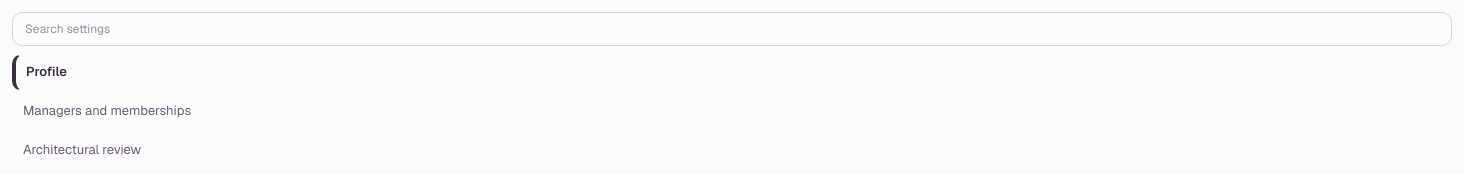
Test case: SettingsSideNavComponent (030 T067) › filters to matching sections and setting labels, and announces the count (8.04.b)
The width and height of the screenshot is (1464, 174).
In the search field labelled "Search settings": (732, 29) 12,12 -> 1452,46, type "review"
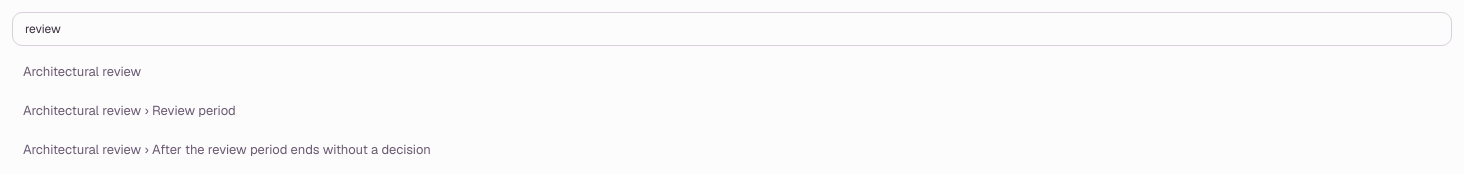
Check: the links read "Architectural review", "Architectural review › Review period", "Architectural review › After the review period ends without a decision", in this order, box 23,63 -> 141,80; 23,102 -> 236,119; 23,141 -> 431,158
Replace the text in the search field named "Search settings" with "FORMAT": (732, 29) 12,12 -> 1452,46
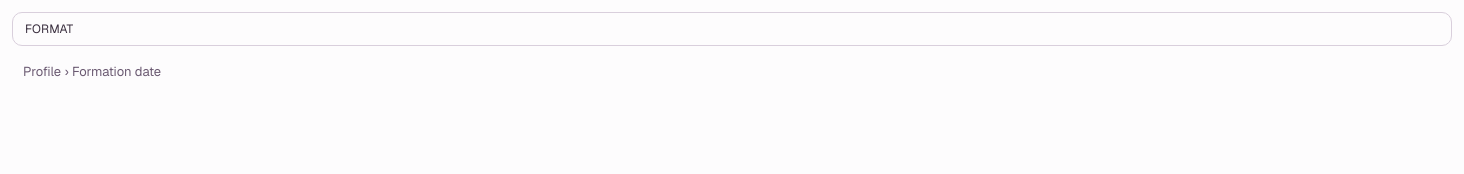
Check: the links read "Profile › Formation date", in this order, box 23,63 -> 161,80
